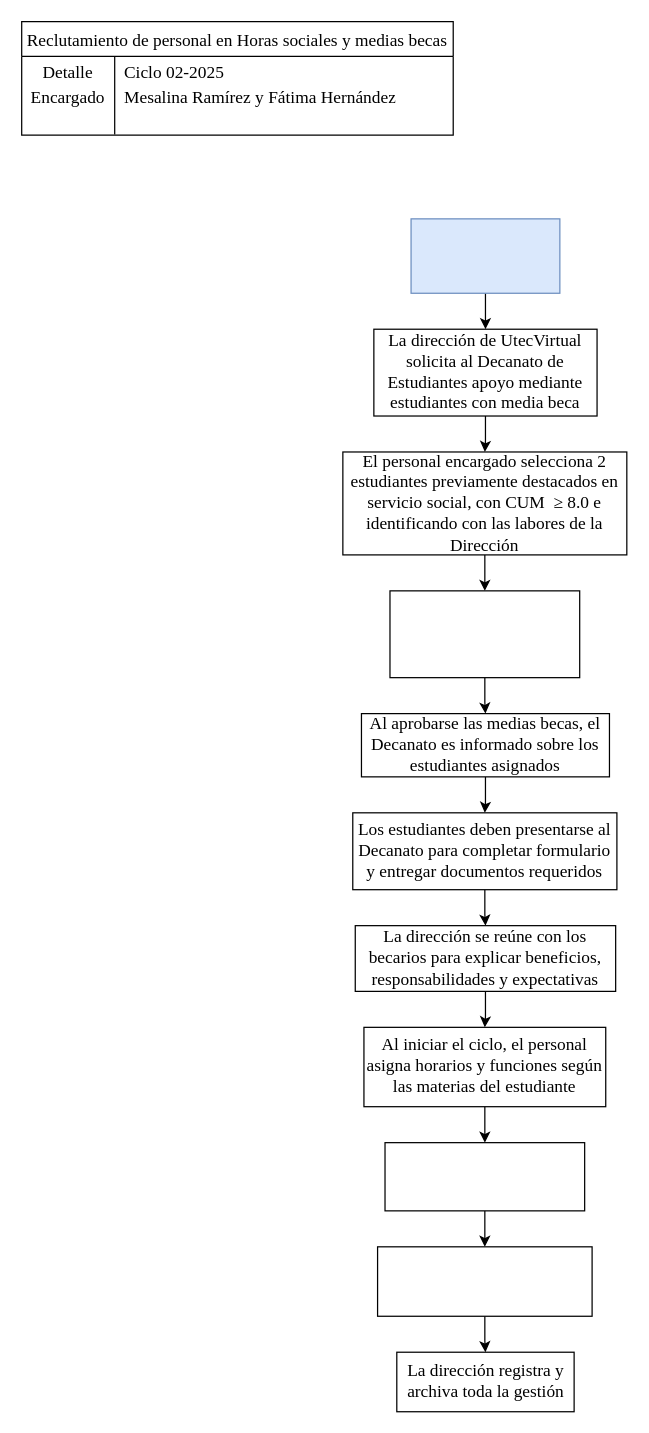
Some shapes in this 649 by 1433 pixel diagram are drawn without their labels. The shapes that lost their labels are listed below. From the top down, each one's centre as x and y in pixels, then its label:
At [485,255]: "Procedimiento para Medias Becas".
At [484,634]: "Se reúne con los candidatos para explicar compromisos y proceso de gestión".
At [484,1176]: "Mantienen la media beca si tiene CUM ≥ 8.0 y buen desempeño".
At [484,1281]: "Si renuncian o incumplen, se informa al decanato para sustituir".
